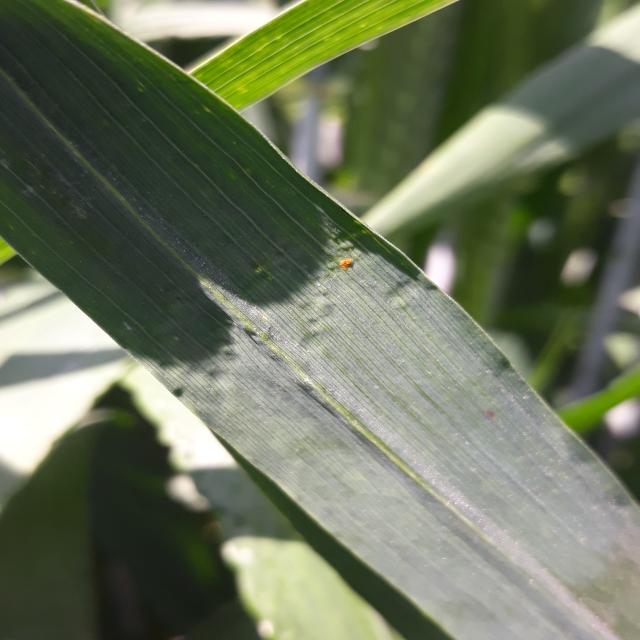orang_rust: (317, 224, 391, 301)
